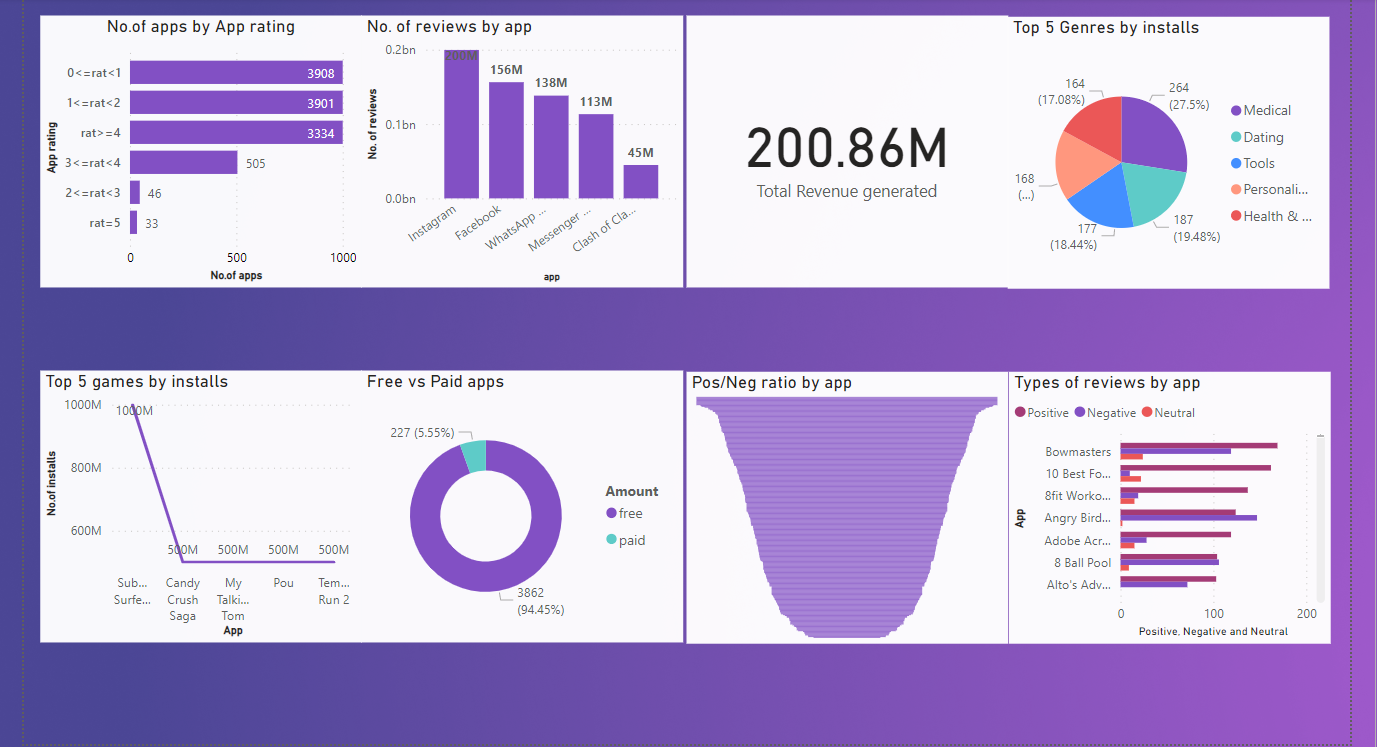

What the dashboard file says about the page in this screenshot:
{"tool":"powerbi","page":{"name":"Page 1","canvas":[1280,720],"ordinal":0},"visuals":[{"type":"barChart","title":"No.of apps by App rating","fields":{"Y":["Sum(BI 1.count(rating))"],"Category":["BI 1.rat=5"]},"box":[15.1,16.5,310.1,262.1],"z":0},{"type":"columnChart","fields":{"Category":["BI 2.app"],"Y":["Sum(BI 2.reviews)"]},"box":[325.2,16.5,310.1,262.1],"z":1000},{"type":"card","fields":{"Values":["Sum(4th query.sum(installs*price))"]},"box":[639.5,16.5,310.1,262.1],"z":2000},{"type":"pieChart","title":"Top 5 Genres by installs","fields":{"Category":["BI 3.genre"],"Y":["Sum(BI 3.No.of apps)"]},"box":[949.6,17.8,310.1,262.1],"z":3000},{"type":"lineChart","title":"Top 5 games by installs","fields":{"Category":["BI 4.app"],"Y":["Sum(BI 4.installs)"]},"box":[15.1,359.5,310.1,262.1],"z":4000},{"type":"donutChart","title":"Free vs Paid apps","fields":{"Category":["9th query.Amount"],"Y":["Sum(9th query.count(app))"]},"box":[325.2,359.5,310.1,262.1],"z":5000},{"type":"funnel","title":"Pos/Neg ratio by app","fields":{"Category":["BI 6.app"],"Y":["Sum(BI 6.pos/neg ratio)"]},"box":[639,360,310,262],"z":6000},{"type":"clusteredBarChart","title":"Types of reviews by app","fields":{"Category":["BI 7.app"],"Y":["Sum(BI 7.Positive)","Sum(BI 7.Negative)","Sum(BI 7.Neutral)"]},"box":[950,360,310,262],"z":7000}]}

Visuals, with their boxes in screenshot pixels (x1, y1, x2, y2):
"No.of apps by App rating" barChart: (48,17,365,285)
columnChart - BI 2.app x Sum(BI 2.reviews): (365,17,681,285)
card - Sum(4th query.sum(installs*price)): (686,17,1002,285)
"Top 5 Genres by installs" pieChart: (1002,18,1319,286)
"Top 5 games by installs" lineChart: (48,367,365,635)
"Free vs Paid apps" donutChart: (365,367,681,635)
"Pos/Neg ratio by app" funnel: (685,368,1002,635)
"Types of reviews by app" clusteredBarChart: (1003,368,1320,635)
